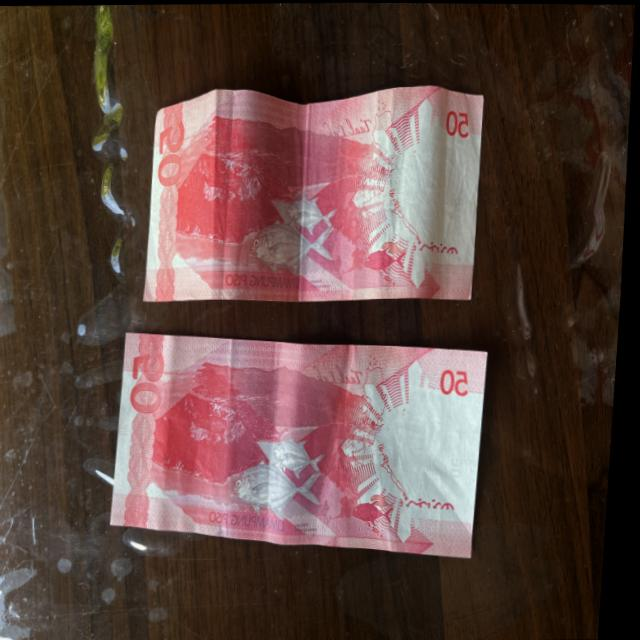50_maliputo: (225, 413, 340, 527), (247, 175, 350, 281)
50_maliputo_watermark: (349, 484, 409, 537), (359, 233, 422, 283)
value_watermark: (445, 186, 472, 228)
watermark: (391, 392, 477, 503)
